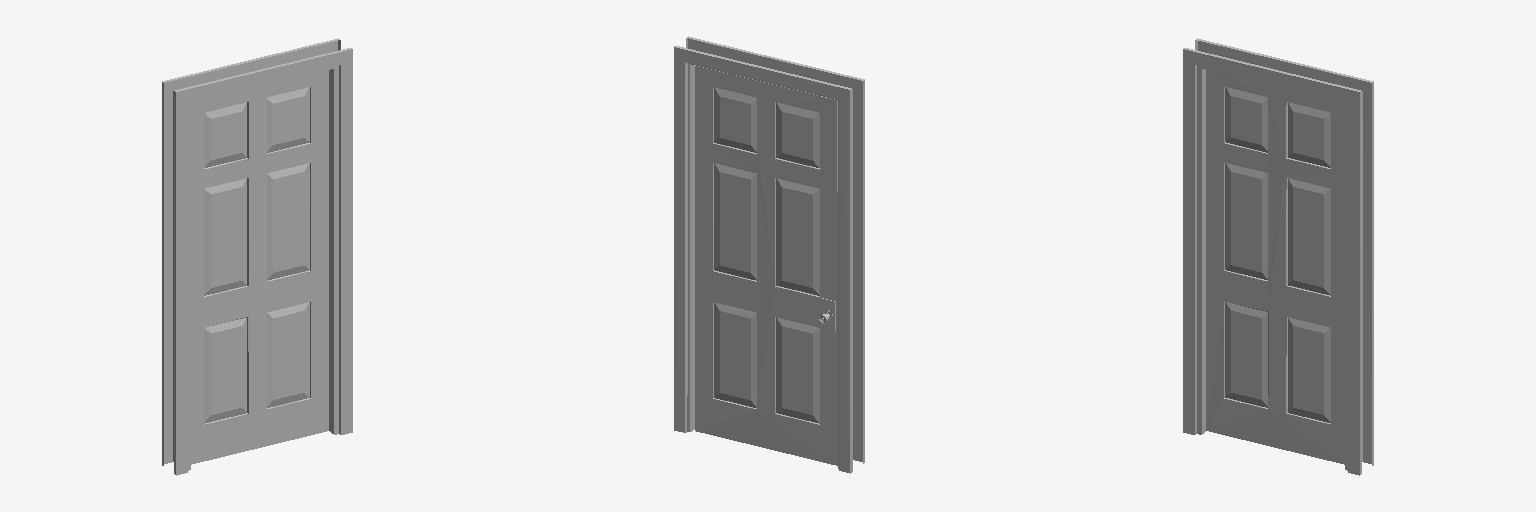
The model's file is porta1.obj.
3 views of the same model, side by side, from view 1: azimuth 30°, elevation 25°; view 2: azimuth 150°, elevation 25°; view 3: azimuth 330°, elevation 25° (orthographic).
Visible parts, largest first — view 1: basic_door_basic_door.001; view 2: basic_door_basic_door.001; view 3: basic_door_basic_door.001.
Part boxes in pixels (left/top/right/bottom): basic_door_basic_door.001: left=162, top=38, right=352, bottom=475; basic_door_basic_door.001: left=674, top=36, right=864, bottom=473; basic_door_basic_door.001: left=1183, top=38, right=1373, bottom=475.
Bounding box in the file's own units: 7.2 × 14.93 × 1.22.